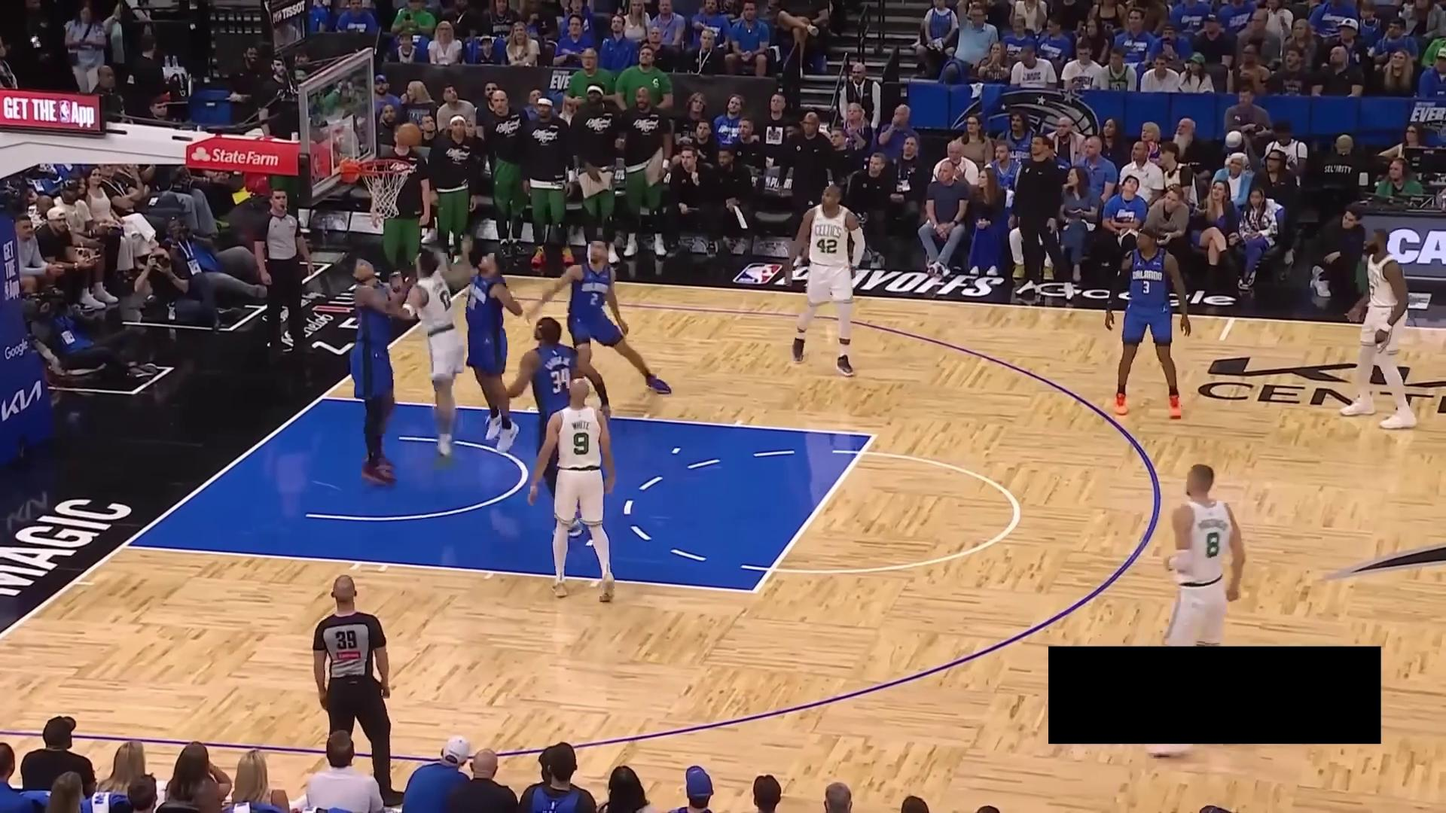ball: (396, 121, 423, 147)
number: (568, 430, 594, 458), (546, 367, 570, 394), (1205, 527, 1221, 560), (817, 238, 837, 254), (439, 288, 452, 312), (590, 292, 599, 306), (1142, 281, 1150, 294)
player: (1142, 458, 1248, 763), (522, 231, 675, 424), (368, 236, 473, 471), (500, 313, 600, 543), (524, 376, 623, 608), (338, 252, 422, 487), (779, 179, 871, 381), (1339, 223, 1424, 437), (1101, 223, 1191, 419), (449, 234, 523, 458)
referee: (311, 571, 409, 811), (250, 185, 320, 362)
rim: (357, 156, 413, 175)
